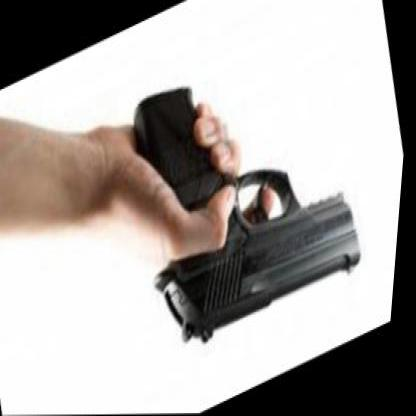pistol: (112, 7, 390, 367)
